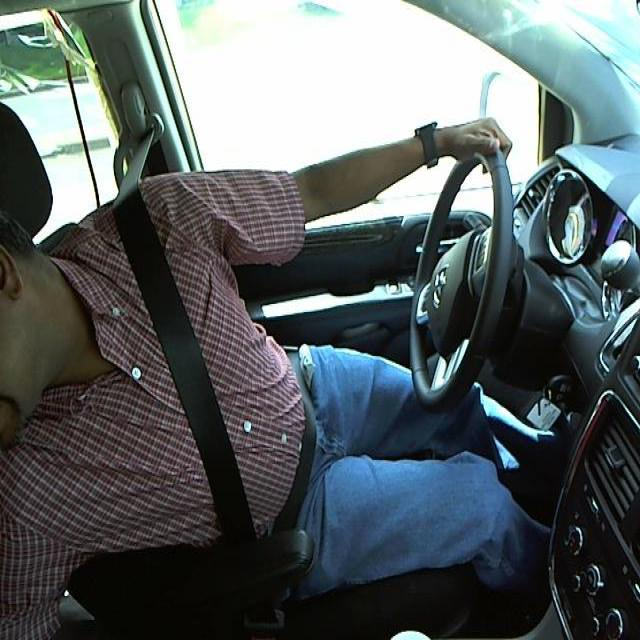seatbelt: (132, 225, 322, 536)
